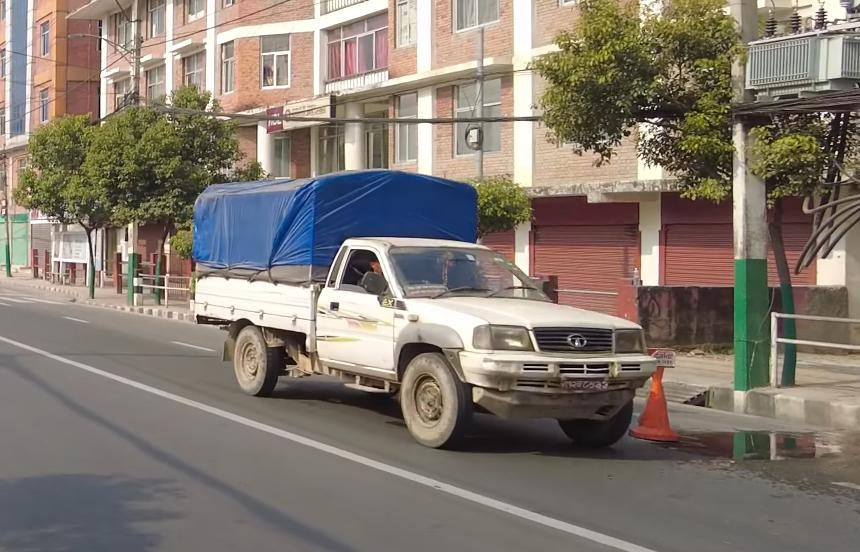transport_vehicle: (191, 159, 648, 465)
